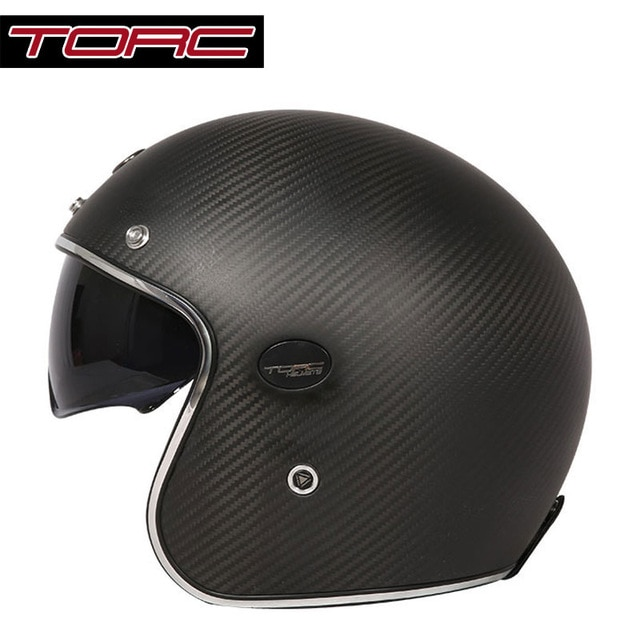with_helmet: (47, 108, 592, 602)
